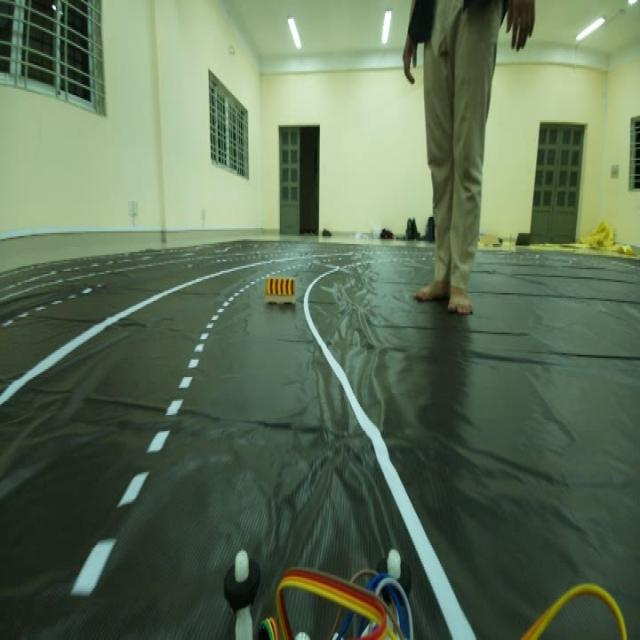roadblock: (264, 266, 299, 314)
